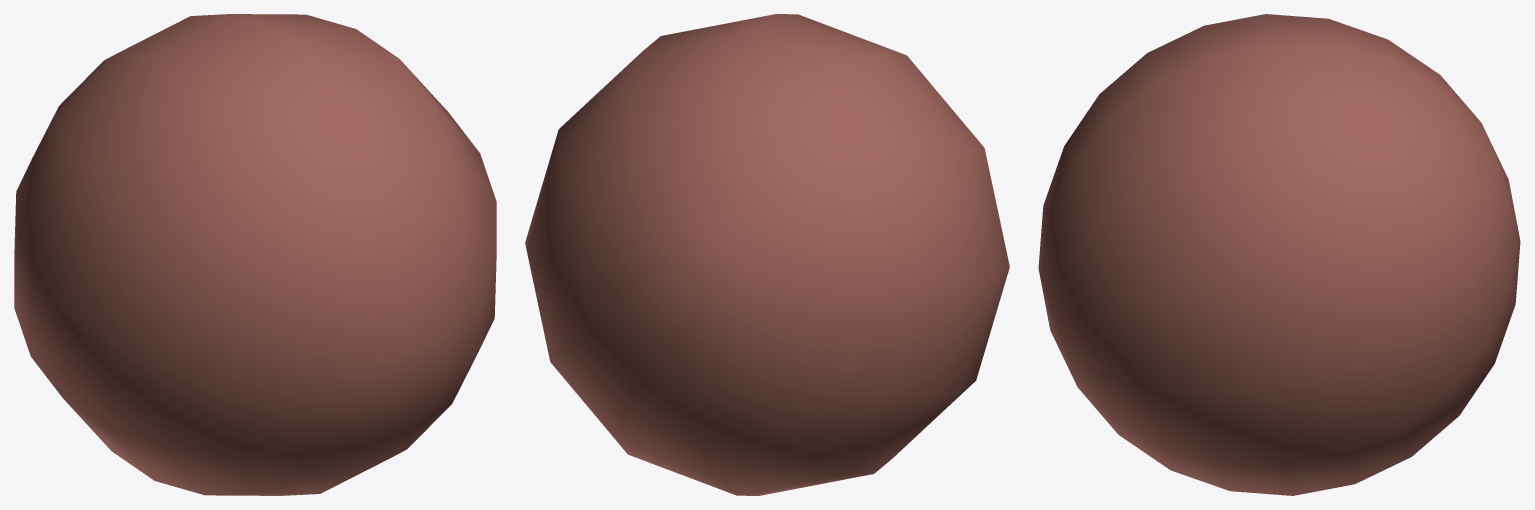
The model's file is mixamo_humanoid_joint_leftHandIndex1.fbx.
3 views of the same model, side by side, from view 1: azimuth 30°, elevation 25°; view 2: azimuth 150°, elevation 25°; view 3: azimuth 270°, elevation 25° (orthographic). The views are drawn at different scales.
Parts seen in each view (by area): view 1: joint_LeftHandIndex1; view 2: joint_LeftHandIndex1; view 3: joint_LeftHandIndex1.
Part boxes in pixels (x1,y1,x2,y2): joint_LeftHandIndex1: (14, 14, 496, 495); joint_LeftHandIndex1: (525, 14, 1009, 495); joint_LeftHandIndex1: (1038, 14, 1520, 495).
Size of the model in its own units: 2.41 by 2.43 by 2.44.
